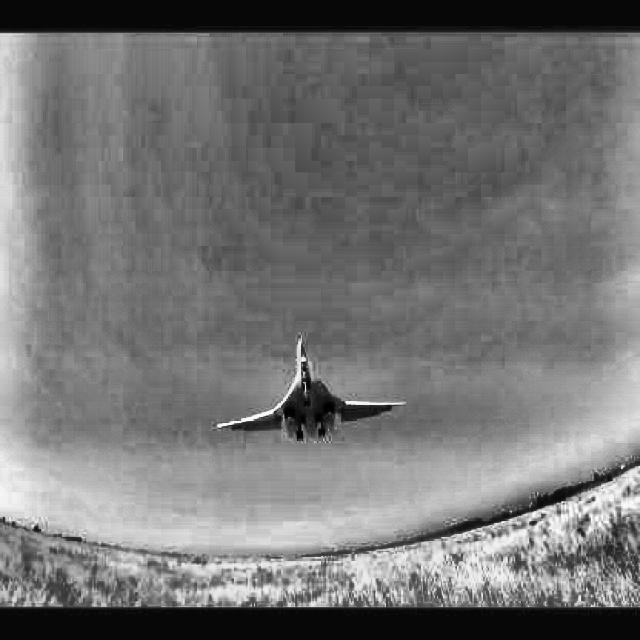Tu160: (217, 336, 406, 441)
